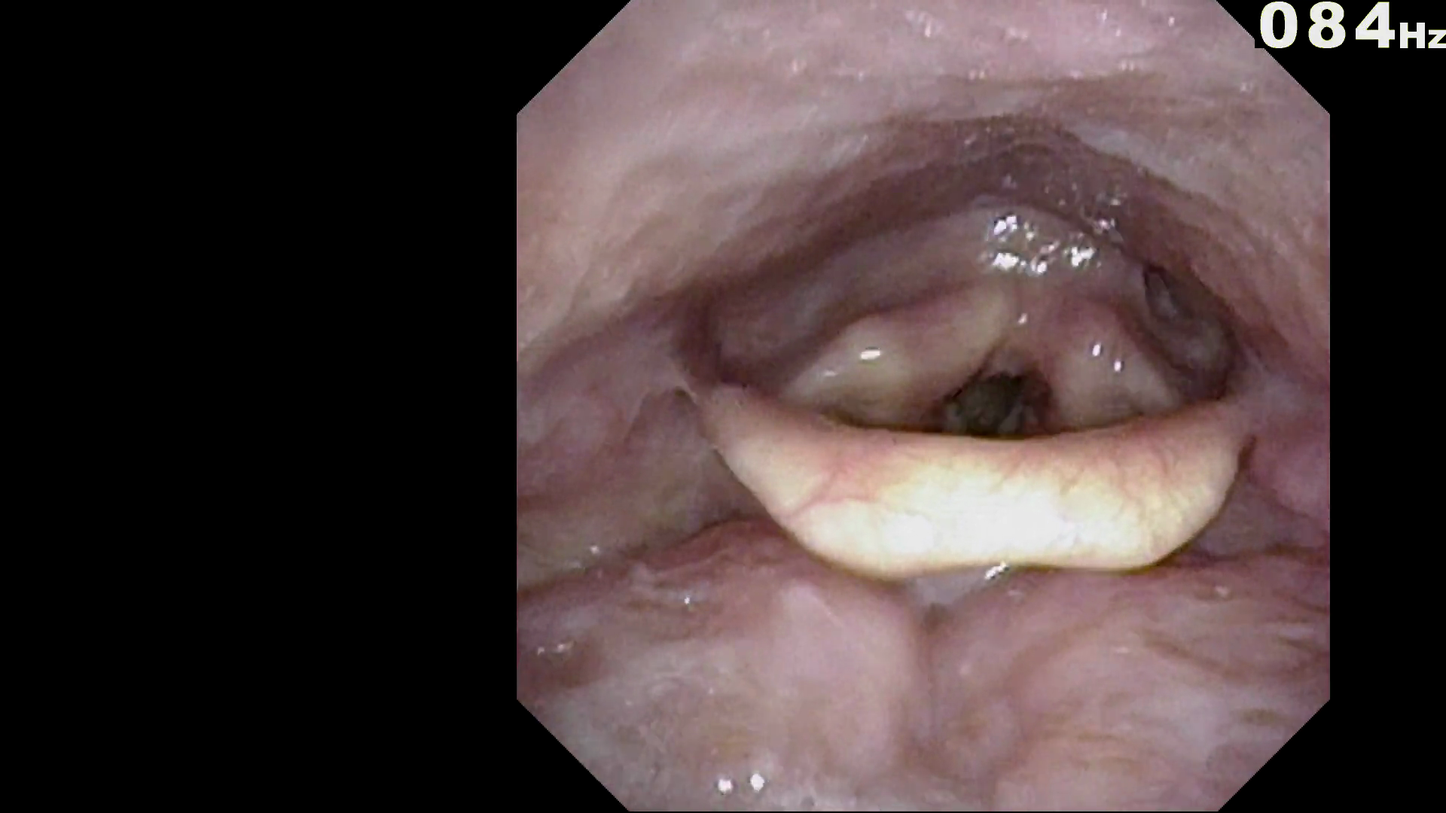epiglottis: (679, 353, 1276, 647)
trachea: (921, 351, 1055, 491)
